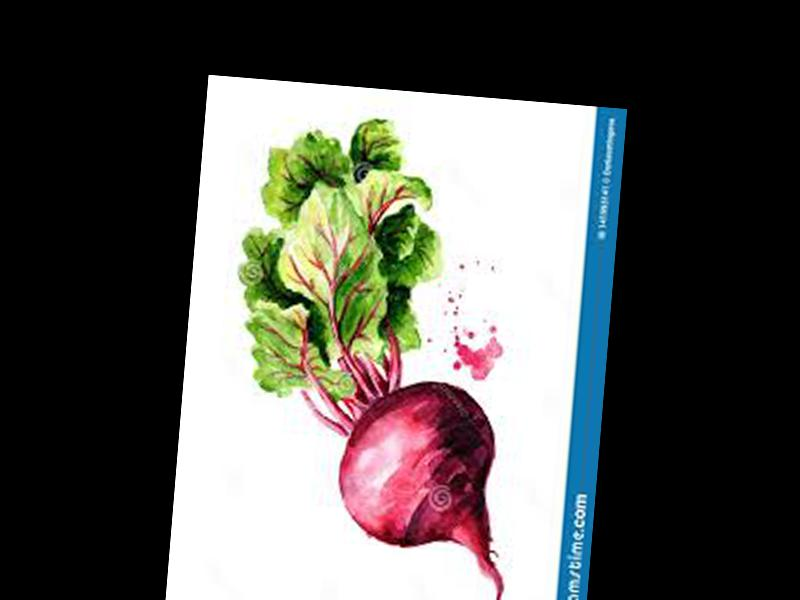Beet: (212, 106, 541, 600)
